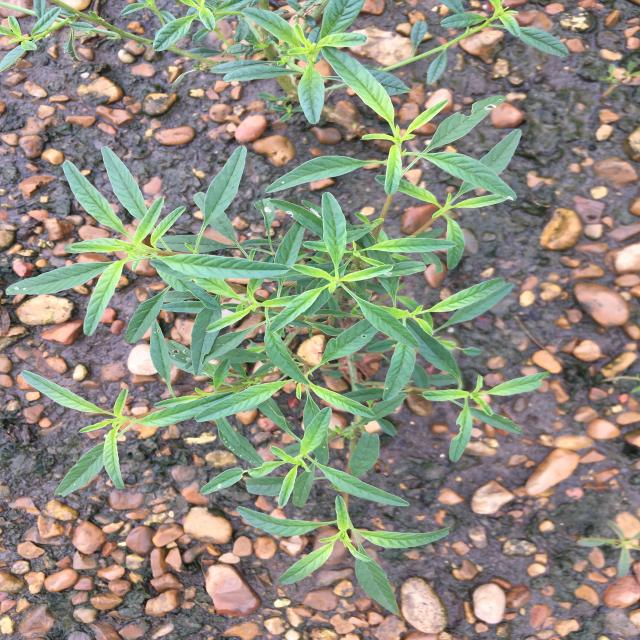Waterhemp: (5, 46, 551, 614), (0, 0, 569, 124)
